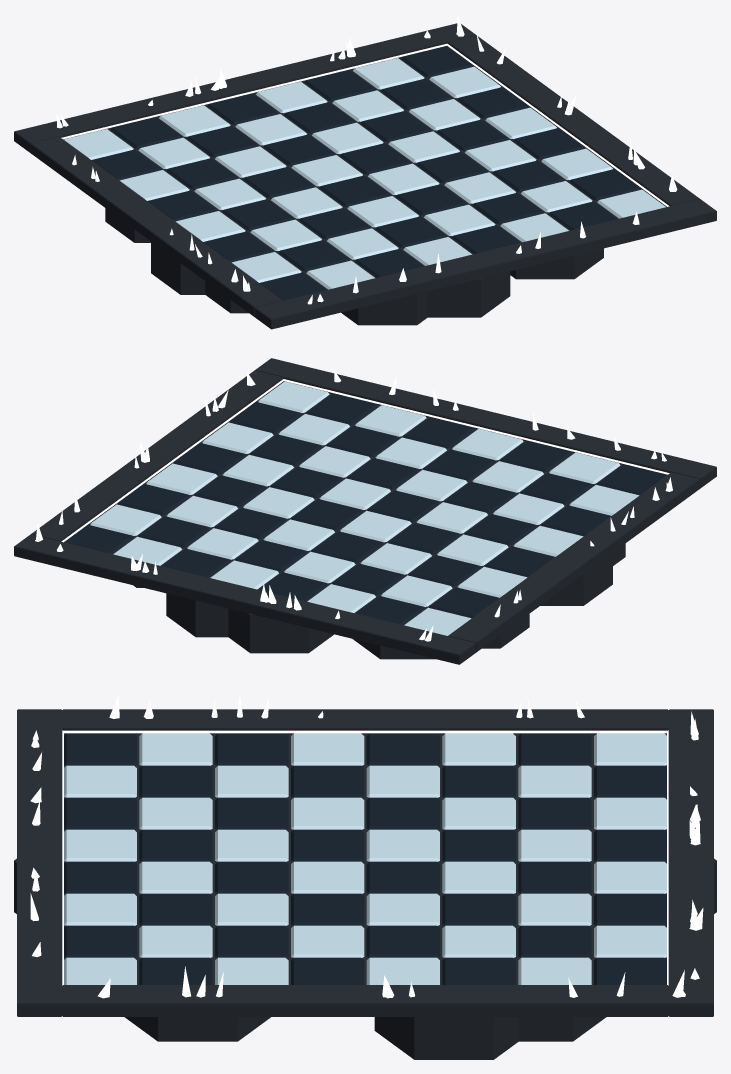
Rendered from Islandia_Tablero.fbx.
3 renders of one model, top to bottom at view 1: azimuth 30°, elevation 25°; view 2: azimuth 150°, elevation 25°; view 3: azimuth 270°, elevation 25°, orthographic. The views are drawn at different scales.
Visible parts, largest first — view 1: Islandia_Tablero; view 2: Islandia_Tablero; view 3: Islandia_Tablero.
Boxes of the visible parts, <box> form: Islandia_Tablero: <box>14,15,716,329</box>; Islandia_Tablero: <box>14,358,716,664</box>; Islandia_Tablero: <box>14,694,716,1059</box>.
Size of the model in its own units: 9.2 by 1.33 by 9.28.
